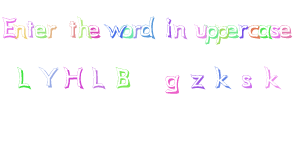B: (110, 61, 139, 94)
E: (1, 12, 18, 41)
H: (61, 62, 87, 91)
L: (9, 62, 33, 91), (86, 62, 109, 92)
Y: (35, 62, 61, 91)
a: (256, 19, 273, 43)
c: (247, 20, 261, 42)
d: (139, 10, 157, 42)
e: (276, 17, 294, 42), (86, 21, 101, 43), (34, 20, 46, 41), (226, 21, 239, 40)
g: (160, 70, 184, 99)
h: (77, 12, 91, 40)
i: (161, 14, 177, 42)
k: (258, 58, 286, 94), (209, 60, 234, 94)
n: (172, 21, 191, 42), (13, 21, 27, 43)
o: (119, 21, 134, 41)
p: (215, 21, 229, 47), (205, 23, 219, 46)
r: (46, 20, 60, 41), (130, 20, 143, 41), (235, 21, 248, 41)
s: (234, 69, 258, 91), (267, 18, 282, 45)
t: (25, 13, 37, 40), (67, 19, 79, 42)
u: (194, 21, 208, 40)
w: (103, 17, 124, 42)
z: (187, 70, 208, 92)
